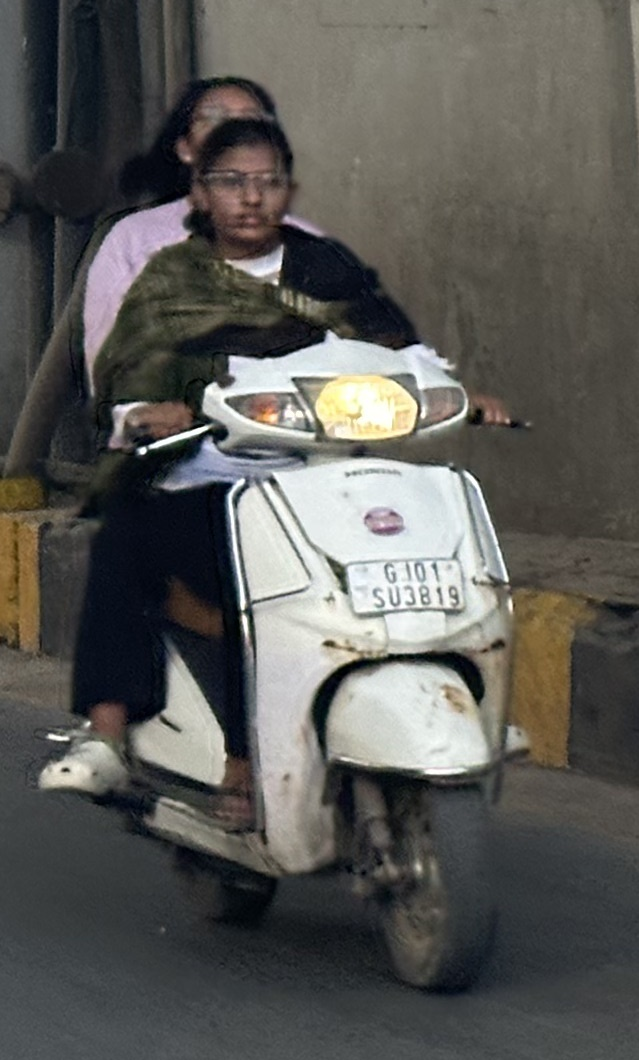BikeWithRider: (23, 70, 553, 1004)
NoHelmet: (169, 110, 314, 256), (142, 66, 296, 202)
